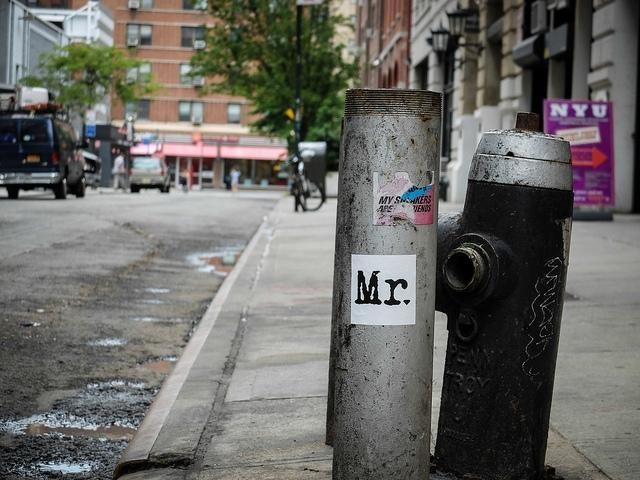bicycle: (285, 155, 328, 213)
car: (0, 112, 87, 200), (129, 158, 171, 192)
